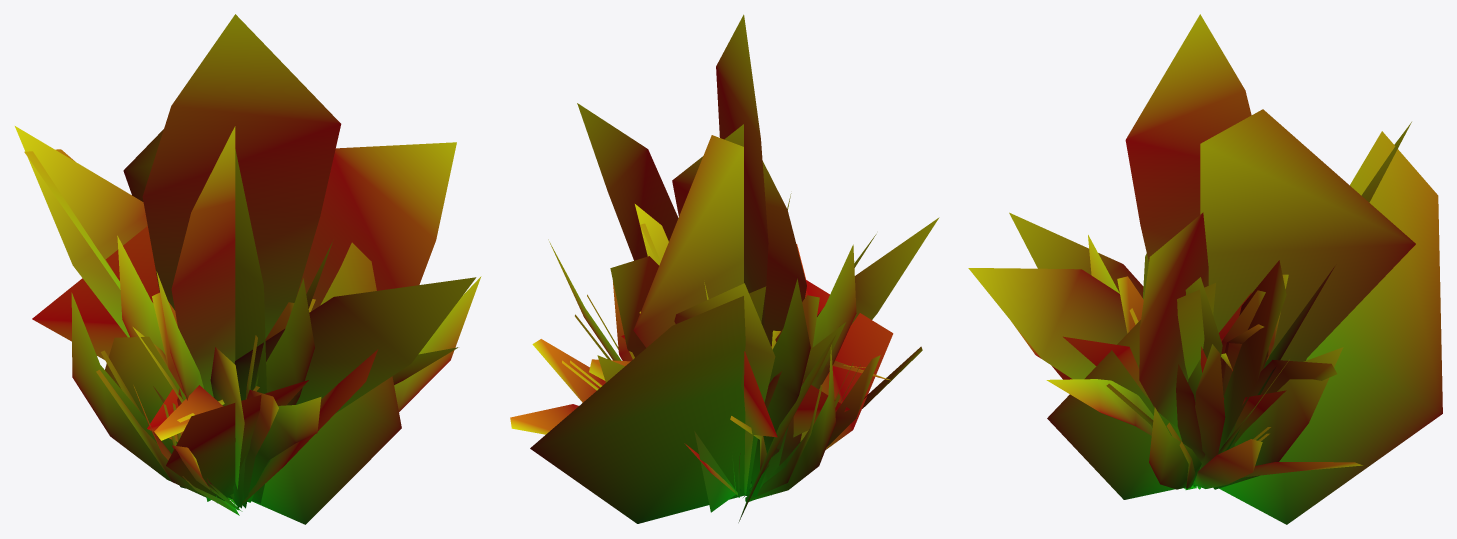
File: tmjhcayia_Var2_LOD2.fbx
3 views of the same model, side by side, from view 1: azimuth 30°, elevation 25°; view 2: azimuth 150°, elevation 25°; view 3: azimuth 270°, elevation 25° (orthographic). The views are drawn at different scales.
Visible parts, largest first — view 1: Var2_LOD2; view 2: Var2_LOD2; view 3: Var2_LOD2.
Boxes of the visible parts, <box> form: Var2_LOD2: <box>15,14,481,524</box>; Var2_LOD2: <box>510,14,939,523</box>; Var2_LOD2: <box>968,14,1442,524</box>.
Bounding box in the file's own units: 17.94 × 24.41 × 21.83.
